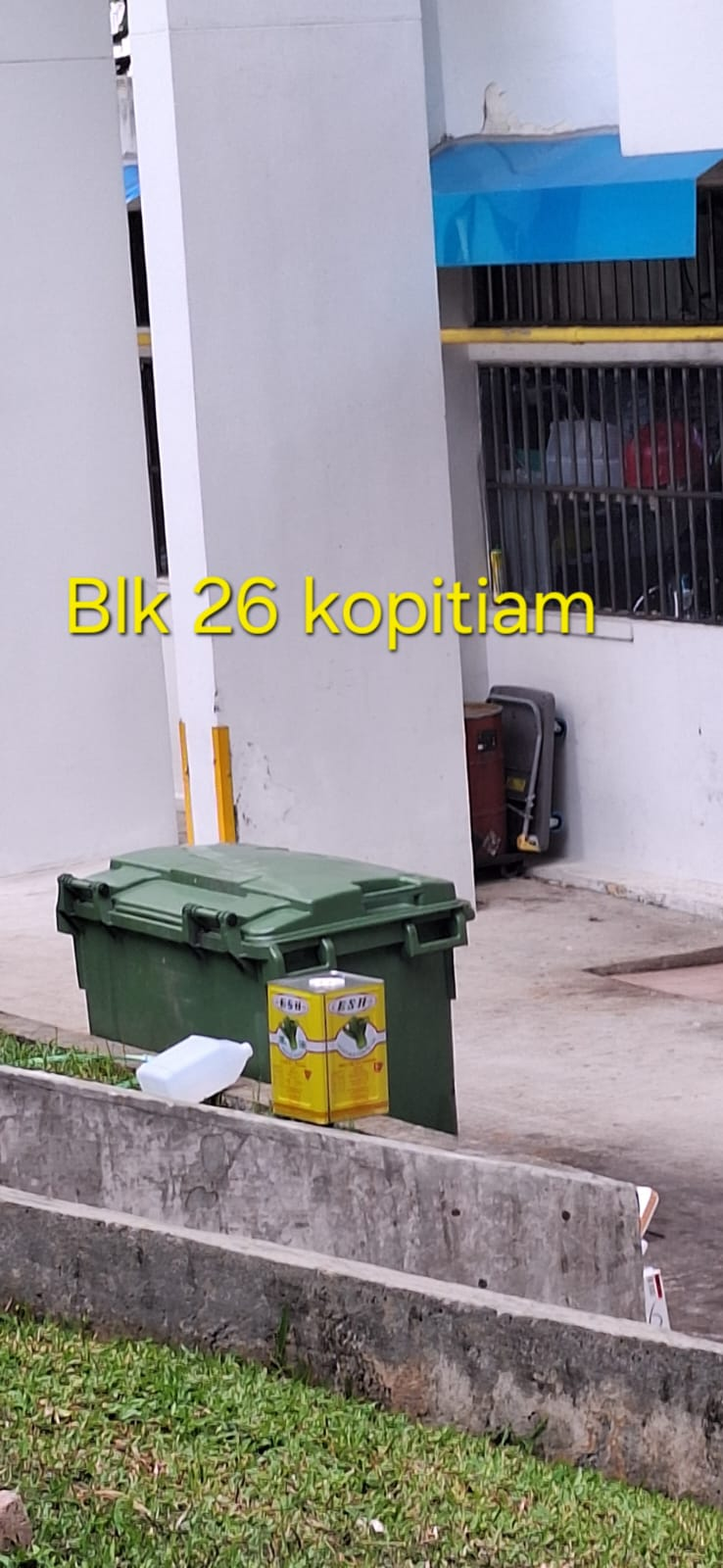bin_empty: (57, 845, 473, 1132)
bulk_waste: (268, 968, 389, 1126)
